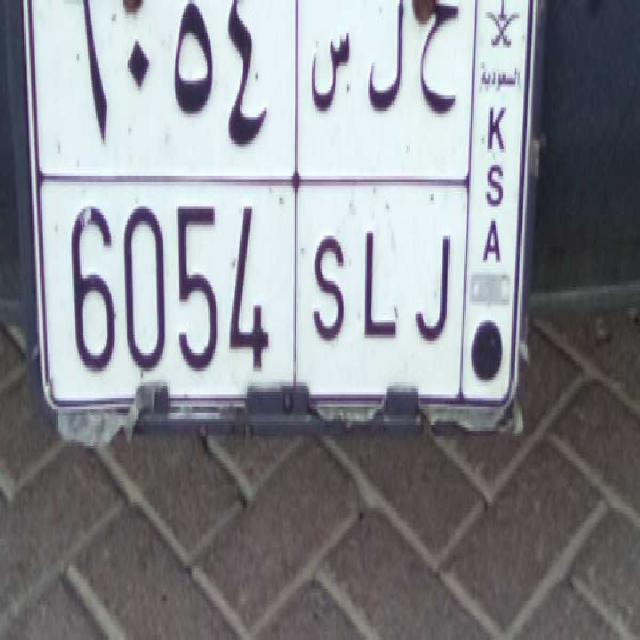license_plate: (42, 175, 460, 405)
